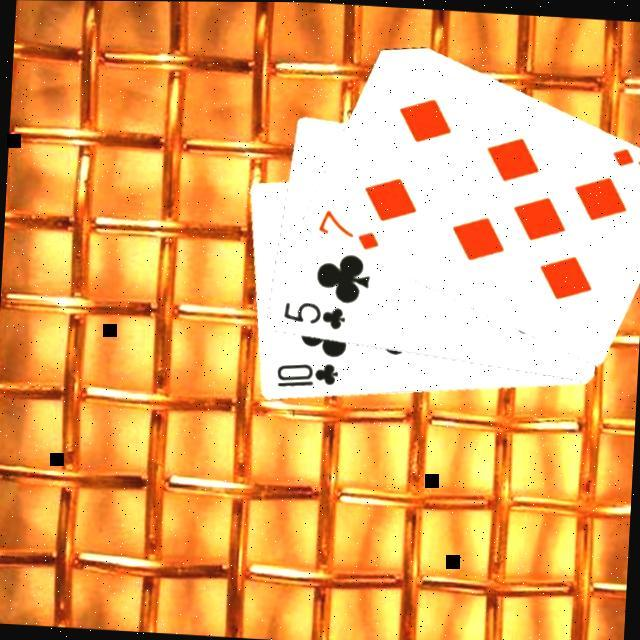10C: (274, 356, 345, 392)
5C: (280, 295, 351, 331)
7D: (317, 203, 386, 251), (608, 142, 640, 188)
